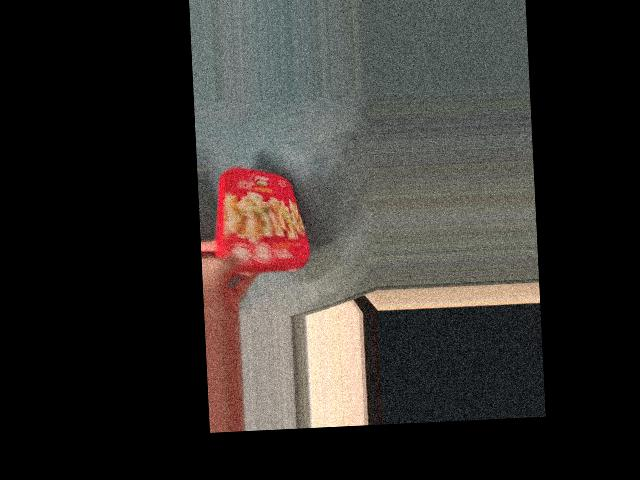cheese: (213, 166, 306, 280)
